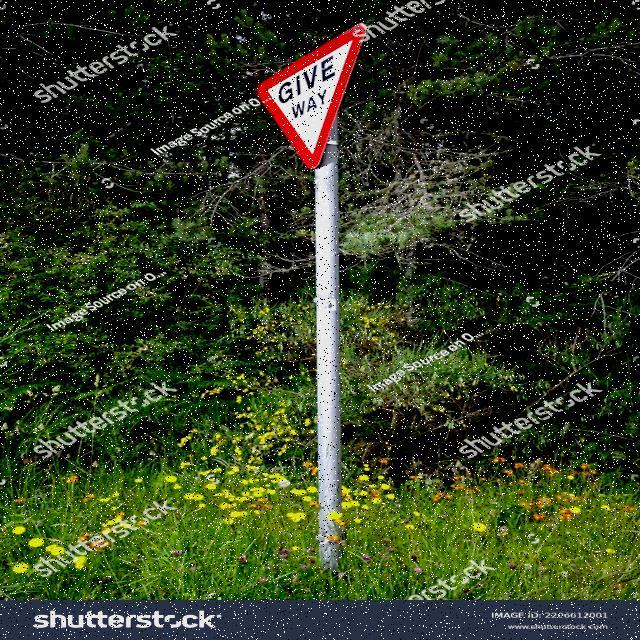Traffic sign: (254, 20, 371, 172)
